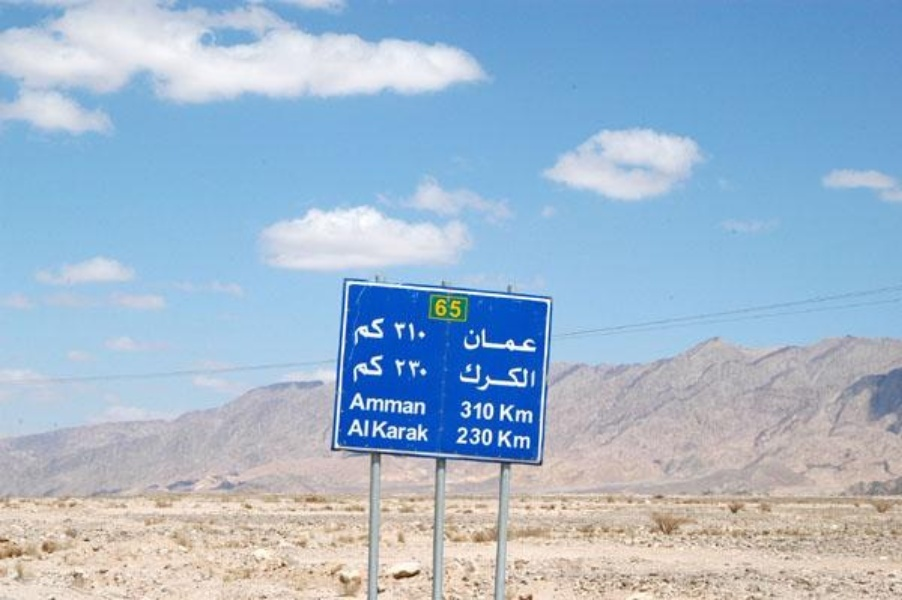text: (465, 360, 480, 396), (481, 360, 496, 396), (497, 360, 512, 396), (513, 360, 528, 396), (369, 352, 385, 384), (369, 316, 385, 346), (353, 352, 368, 384), (353, 316, 368, 346), (465, 325, 480, 354), (481, 325, 496, 354), (497, 325, 512, 354), (513, 325, 528, 354), (353, 417, 368, 443), (369, 417, 384, 443), (385, 417, 400, 443), (401, 417, 416, 443), (369, 390, 384, 416), (385, 390, 400, 416), (401, 390, 416, 416), (513, 401, 528, 425), (401, 357, 416, 381), (449, 295, 464, 319), (465, 399, 480, 422), (355, 390, 368, 416), (497, 428, 512, 450), (513, 428, 528, 450), (465, 425, 480, 447), (481, 399, 495, 422), (401, 321, 416, 342), (417, 417, 429, 443), (417, 357, 430, 381), (435, 295, 448, 319), (500, 401, 512, 425), (481, 425, 494, 447), (529, 360, 536, 396), (417, 390, 426, 416), (529, 325, 537, 354), (417, 321, 426, 342), (456, 425, 464, 447), (393, 321, 400, 342), (394, 357, 400, 381), (529, 401, 534, 425), (461, 360, 464, 396), (461, 399, 464, 422), (462, 325, 464, 354), (529, 428, 531, 450), (351, 352, 352, 384)
